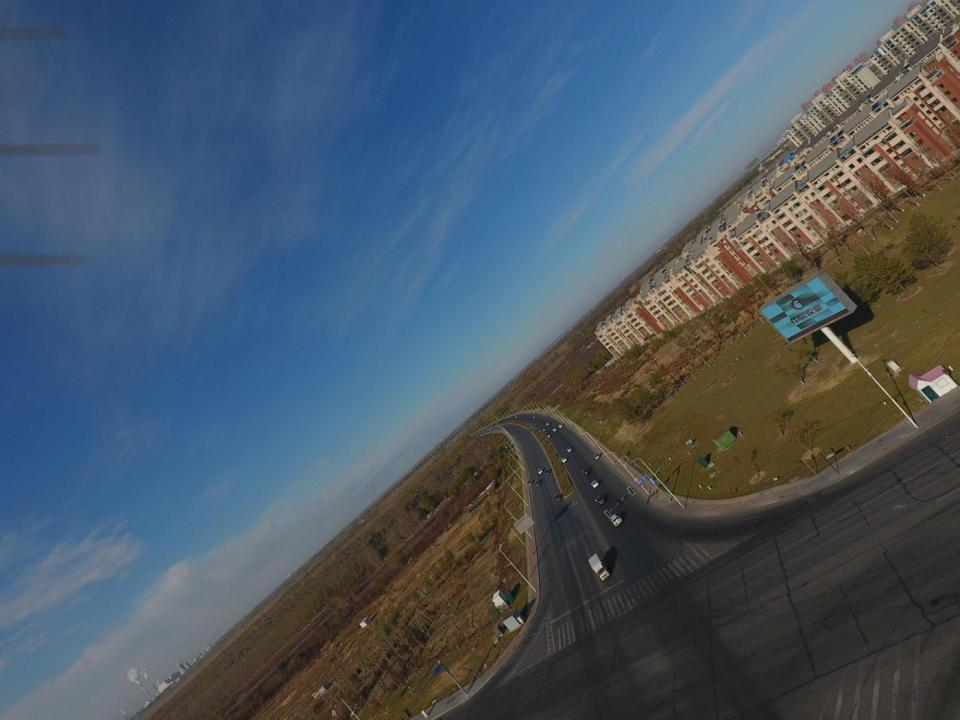car: (610, 514, 622, 527), (590, 479, 598, 489), (582, 468, 590, 475), (560, 457, 567, 463), (566, 447, 572, 453), (535, 479, 540, 486), (593, 454, 599, 459), (545, 469, 550, 475), (538, 467, 542, 474), (527, 480, 532, 485), (558, 424, 562, 428), (547, 432, 550, 436), (545, 429, 547, 433), (515, 416, 518, 418), (531, 416, 534, 418), (516, 431, 518, 434), (513, 426, 516, 428), (542, 429, 545, 431)
truck: (587, 552, 610, 580), (552, 428, 556, 432)
van: (595, 494, 604, 505), (553, 493, 561, 501), (545, 423, 549, 425)
